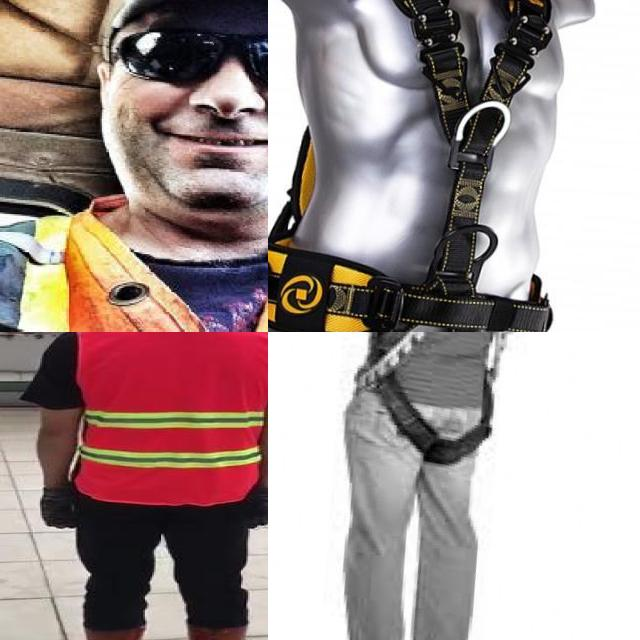Harness: (268, 0, 553, 332), (380, 332, 507, 462)
boots: (184, 623, 246, 640)
face_nomask: (119, 24, 268, 172)
glasses: (106, 10, 268, 85)
hand_glove: (40, 487, 74, 530), (244, 485, 268, 530)
head_nohelmet: (110, 0, 268, 37)
person: (21, 332, 268, 640)
vest: (74, 332, 268, 503)
